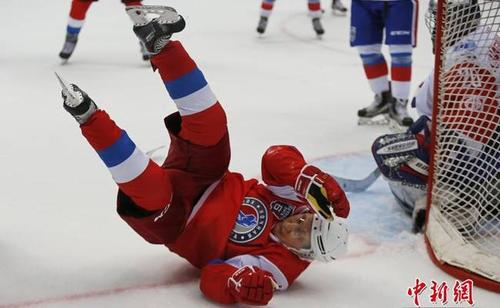fall: (44, 5, 360, 301)
